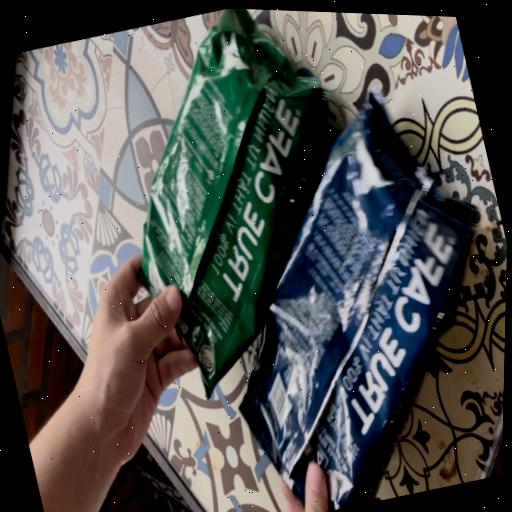cafe_hat: (240, 93, 478, 511)
cafe_xay: (141, 8, 327, 394)
